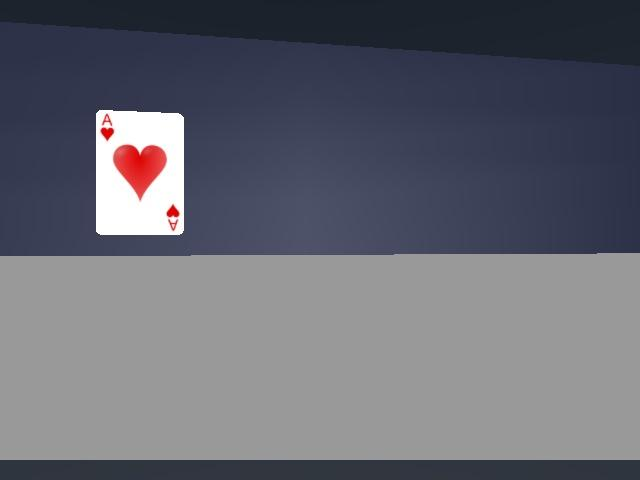heart: (96, 110, 183, 234)
